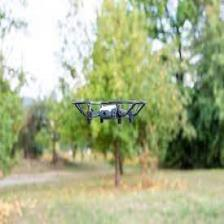drone: (73, 100, 146, 122)
